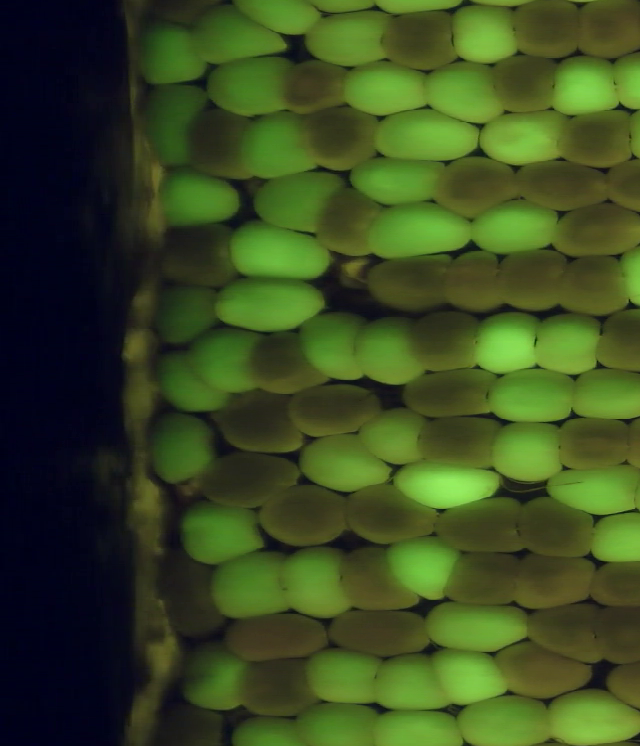fluorescent: (226, 214, 343, 287), (207, 271, 334, 337), (135, 78, 219, 175), (360, 197, 480, 264), (203, 543, 300, 625), (417, 595, 542, 658), (247, 164, 353, 237), (267, 543, 360, 626), (183, 2, 293, 72), (368, 103, 486, 168), (385, 455, 515, 514), (298, 3, 406, 74), (234, 105, 329, 184), (472, 104, 584, 171), (293, 427, 399, 496), (174, 636, 261, 720), (150, 161, 250, 234), (419, 644, 522, 713), (481, 363, 587, 430), (348, 310, 434, 392), (183, 321, 273, 399), (463, 193, 566, 261), (376, 534, 474, 605), (536, 680, 640, 746), (418, 57, 512, 130), (366, 649, 461, 720), (202, 52, 301, 120), (142, 408, 225, 489), (339, 153, 456, 210), (173, 499, 266, 570), (296, 305, 375, 388), (299, 640, 396, 707), (335, 57, 437, 120), (148, 346, 237, 418), (131, 14, 214, 91), (449, 688, 557, 746), (481, 416, 572, 484), (146, 278, 227, 353), (464, 307, 546, 380), (546, 48, 627, 121), (444, 1, 528, 69), (538, 462, 640, 518), (351, 403, 438, 467), (528, 308, 608, 377), (561, 360, 640, 427), (364, 702, 480, 746), (287, 695, 387, 746), (226, 1, 330, 45), (584, 506, 640, 568), (223, 710, 304, 746), (600, 46, 640, 115)
nonfluorescent: (152, 546, 236, 649), (485, 637, 606, 705), (354, 249, 466, 321), (190, 447, 314, 512), (426, 150, 531, 223), (210, 385, 309, 462), (278, 378, 395, 443), (248, 479, 356, 549), (323, 602, 441, 666), (339, 480, 448, 549), (423, 492, 533, 559), (330, 542, 425, 617), (222, 606, 341, 665), (502, 156, 617, 217), (242, 325, 333, 402), (521, 595, 613, 671), (407, 408, 509, 476), (181, 103, 261, 189), (290, 103, 384, 176), (155, 218, 247, 292), (510, 490, 598, 567), (397, 364, 504, 426), (371, 8, 466, 77), (491, 243, 578, 318), (229, 654, 322, 723), (403, 301, 486, 377), (504, 549, 602, 613), (313, 183, 391, 263), (551, 106, 640, 172), (547, 251, 634, 317), (552, 198, 640, 262), (437, 548, 526, 611), (552, 410, 635, 477), (506, 1, 591, 64), (276, 55, 357, 121), (484, 53, 564, 117), (438, 249, 511, 316), (150, 693, 240, 746), (585, 303, 640, 382), (571, 1, 640, 62), (582, 600, 640, 669), (584, 556, 640, 610), (593, 653, 640, 716), (601, 152, 640, 218)
